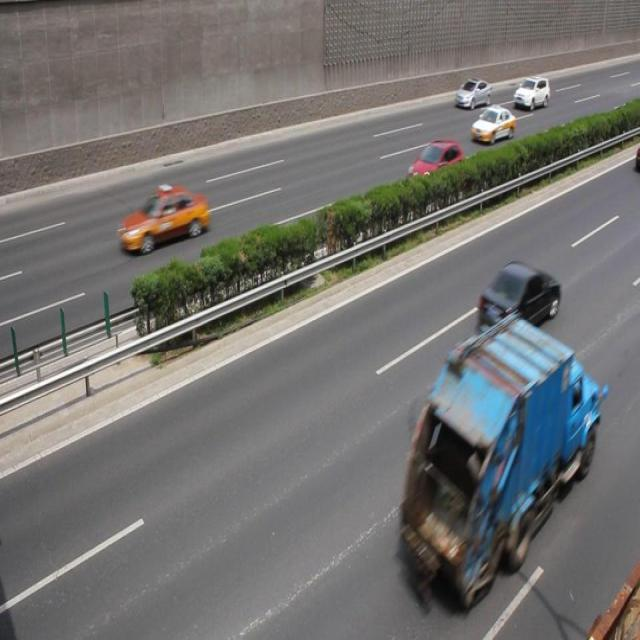bus: (394, 315, 604, 607)
car: (478, 257, 560, 343), (117, 182, 213, 255), (405, 139, 463, 199), (469, 105, 514, 144), (454, 77, 490, 111), (513, 78, 548, 110)
